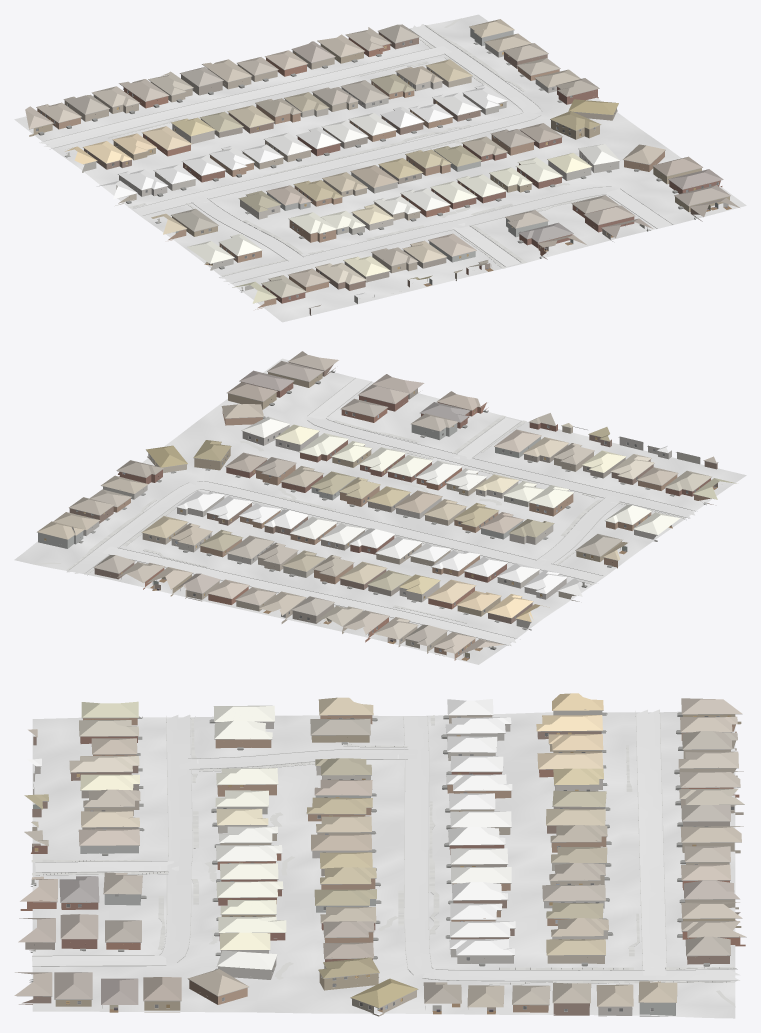
The picture shows the model from 3 angles, top to bottom: view 1: azimuth 30°, elevation 25°; view 2: azimuth 150°, elevation 25°; view 3: azimuth 270°, elevation 25°; orthographic projection. The views are drawn at different scales.
Parts seen in each view (by area): view 1: roof, ground, wall, concrete, detail, wall_stucco, curb, walk, wall_stone, glass; view 2: roof, ground, concrete, wall, detail, wall_stucco, curb, walk, wall_stone, glass; view 3: roof, ground, concrete, wall, detail, walk, wall_stucco, curb, wall_stone.
Part boxes in pixels (box(x1,y1,x2,y2)): roof: box(25, 19, 739, 307); ground: box(14, 14, 746, 322); wall: box(29, 32, 729, 315); concrete: box(39, 24, 672, 282); detail: box(29, 27, 730, 309); wall_stucco: box(82, 28, 617, 262); curb: box(43, 24, 672, 284); walk: box(107, 18, 596, 276); wall_stone: box(119, 43, 619, 303); glass: box(36, 40, 718, 299); roof: box(37, 351, 736, 655); ground: box(14, 358, 746, 664); concrete: box(66, 378, 694, 646); wall: box(69, 362, 717, 660); detail: box(37, 362, 722, 656); wall_stucco: box(38, 423, 700, 630); curb: box(67, 377, 695, 645); walk: box(32, 415, 685, 623); wall_stone: box(72, 425, 671, 599); glass: box(76, 399, 695, 654); roof: box(14, 693, 745, 1007); ground: box(32, 711, 735, 1018); concrete: box(32, 709, 740, 980); wall: box(19, 714, 745, 1015); detail: box(17, 710, 746, 1011); walk: box(31, 715, 736, 1007); wall_stucco: box(80, 709, 675, 1016); curb: box(32, 710, 739, 984); wall_stone: box(33, 722, 632, 1016).
Bounding box in the file's own units: 259 × 12.07 × 261.
